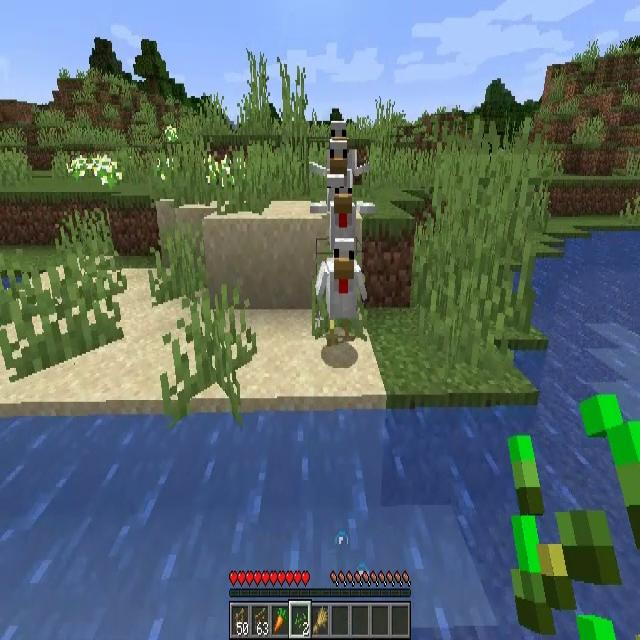duck: (316, 239, 364, 338), (312, 180, 375, 246), (309, 139, 370, 188)
flower: (90, 155, 122, 192), (68, 155, 89, 185), (164, 124, 178, 145)
